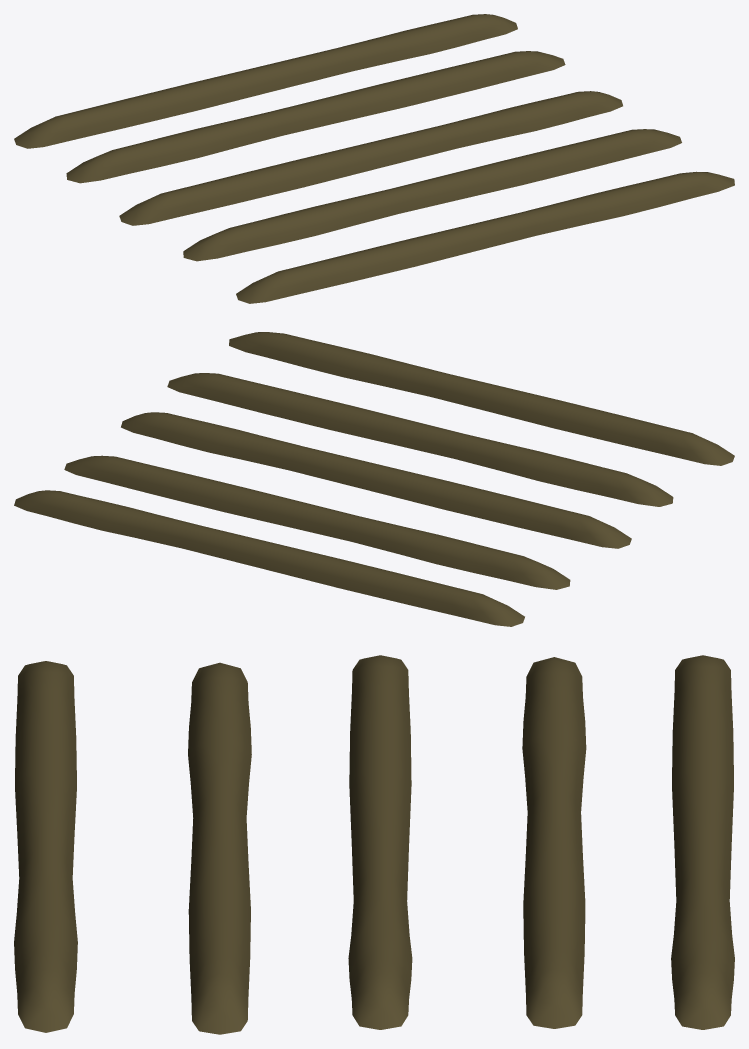
File: Farm_FirstAge_Level3.glb
3 views of the same model, one above another, from view 1: azimuth 30°, elevation 25°; view 2: azimuth 150°, elevation 25°; view 3: azimuth 270°, elevation 25° (orthographic). The views are drawn at different scales.
Parts seen in each view (by area): view 1: Farm_FirstAge_Level3; view 2: Farm_FirstAge_Level3; view 3: Farm_FirstAge_Level3.
Part boxes in pixels (box(x1,y1,x2,y2)): Farm_FirstAge_Level3: box(14, 14, 734, 303); Farm_FirstAge_Level3: box(14, 332, 734, 626); Farm_FirstAge_Level3: box(14, 655, 734, 1034).
Bounding box in the file's own units: 1.79 × 0.0564 × 1.44.
